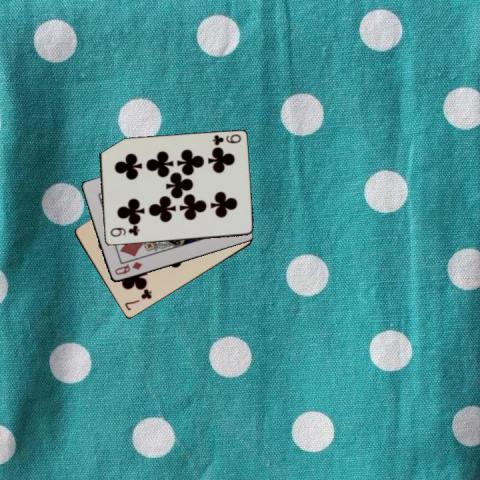7c: (122, 287, 153, 312)
9c: (209, 131, 242, 147), (107, 224, 141, 238)
Qd: (112, 258, 144, 276)
